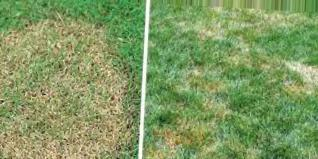patch: (15, 32, 95, 157), (78, 56, 115, 144)
